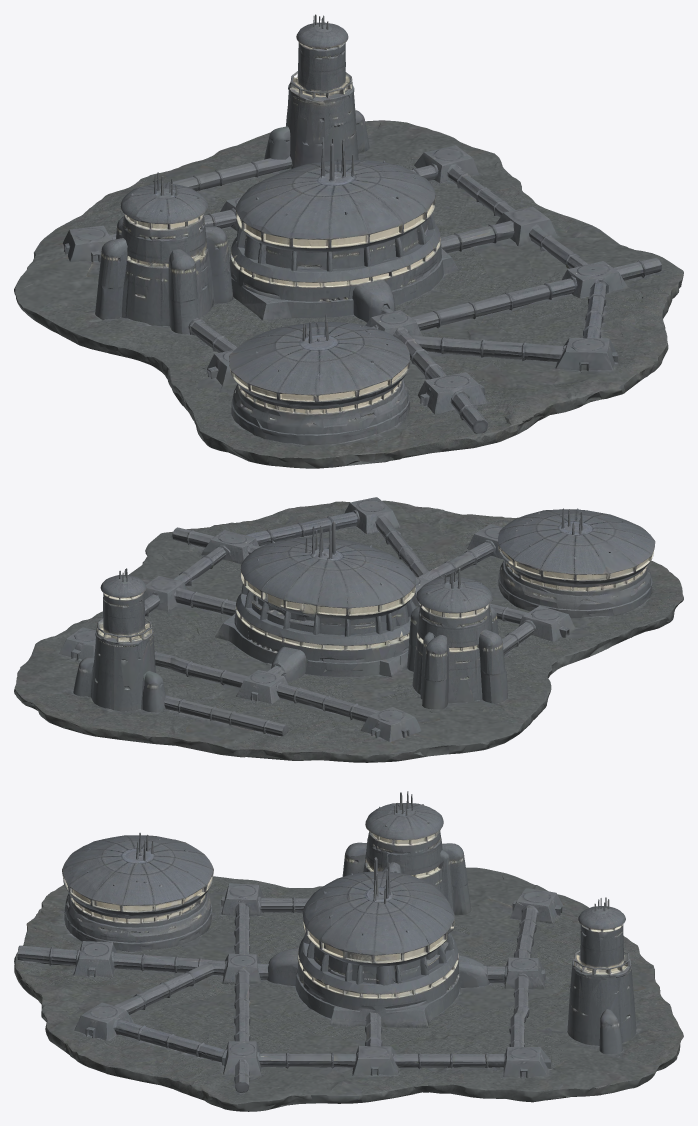
File: massabase.glb
3 views of the same model, one above another, from view 1: azimuth 30°, elevation 25°; view 2: azimuth 150°, elevation 25°; view 3: azimuth 270°, elevation 25° (orthographic). The views are drawn at different scales.
Visible parts, largest first — view 1: massabase-centred; view 2: massabase-centred; view 3: massabase-centred.
Part boxes in pixels (x1,y1,x2,y2): massabase-centred: (14, 14, 683, 468); massabase-centred: (14, 497, 683, 762); massabase-centred: (14, 791, 683, 1111).
Size of the model in its own units: 50.21 by 14.16 by 60.
1 material, 1 textured.
